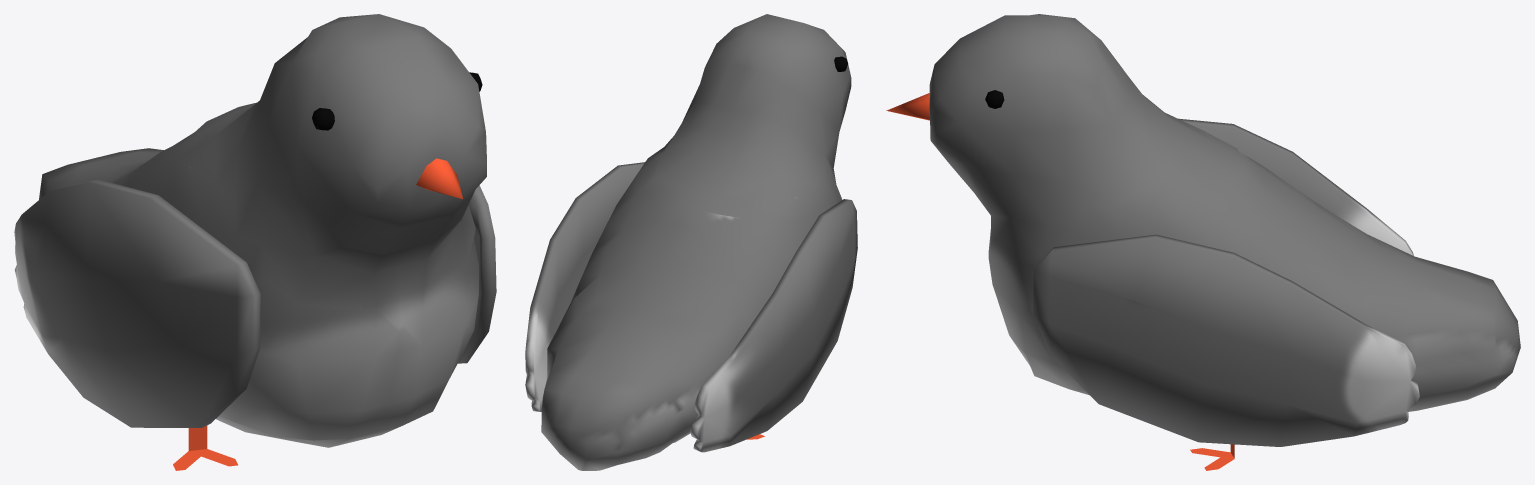
Rendered from Bird.fbx.
3 views of the same model, side by side, from view 1: azimuth 30°, elevation 25°; view 2: azimuth 150°, elevation 25°; view 3: azimuth 270°, elevation 25° (orthographic). The views are drawn at different scales.
Visible parts, largest first — view 1: Body, Wings, Beak, Feet, Eyes; view 2: Body, Wings; view 3: Body, Wings, Beak.
Part boxes in pixels (left/top/right/bottom): Body: left=39, top=14, right=486, bottom=447; Wings: left=14, top=179, right=496, bottom=427; Beak: left=416, top=158, right=462, bottom=199; Feet: left=173, top=425, right=237, bottom=470; Eyes: left=312, top=72, right=482, bottom=130; Body: left=541, top=14, right=851, bottom=470; Wings: left=525, top=162, right=857, bottom=452; Body: left=929, top=14, right=1520, bottom=411; Wings: left=1033, top=118, right=1419, bottom=446; Beak: left=886, top=93, right=930, bottom=120.
Size of the model in its own units: 162 by 222 by 313.
